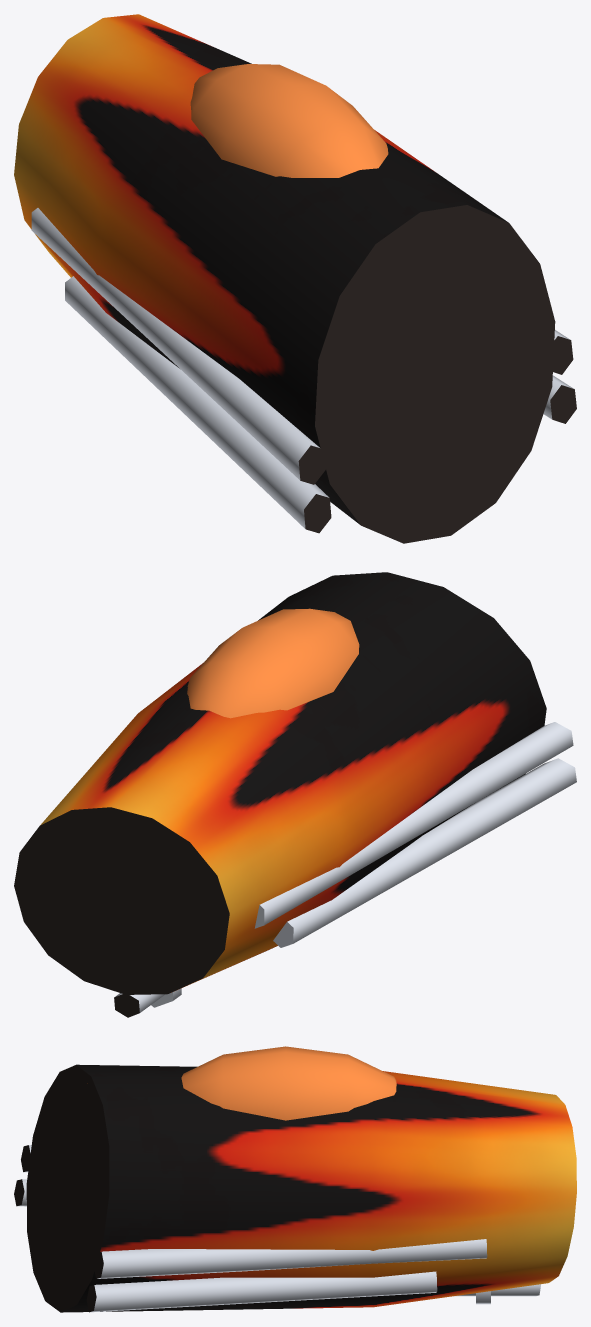
Rendered from hotrod_debris2.obj.
3 views of the same model, one above another, from view 1: azimuth 30°, elevation 25°; view 2: azimuth 150°, elevation 25°; view 3: azimuth 270°, elevation 25° (orthographic). The views are drawn at different scales.
Visible parts, largest first — view 1: hull, pipe, canopy, fin235; view 2: hull, pipe, canopy, gun; view 3: hull, pipe, canopy, gun.
Boxes of the visible parts, x1=… form: hull: x1=14, y1=14, x2=555, y2=543; pipe: x1=31, y1=208, x2=576, y2=533; canopy: x1=190, y1=64, x2=388, y2=177; fin235: x1=349, y1=460, x2=379, y2=502; hull: x1=14, y1=572, x2=546, y2=994; pipe: x1=254, y1=722, x2=576, y2=947; canopy: x1=187, y1=608, x2=359, y2=718; gun: x1=114, y1=993, x2=164, y2=1017; hull: x1=26, y1=1064, x2=576, y2=1312; pipe: x1=14, y1=1145, x2=487, y2=1312; canopy: x1=181, y1=1046, x2=396, y2=1120; gun: x1=454, y1=1284, x2=540, y2=1296.
Size of the model in its own units: 2.25 by 2.22 by 4.5.
Materials: 6 (1 with a texture image).
